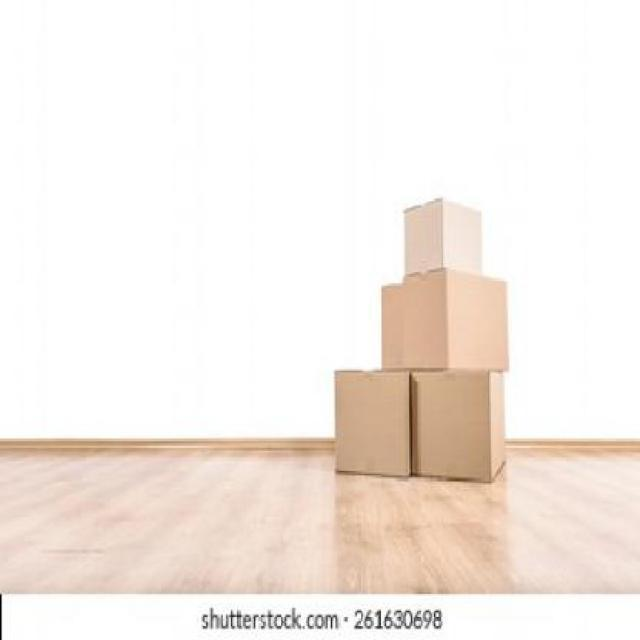box: (377, 273, 514, 372), (413, 374, 507, 492), (328, 364, 412, 481), (402, 196, 490, 281)
